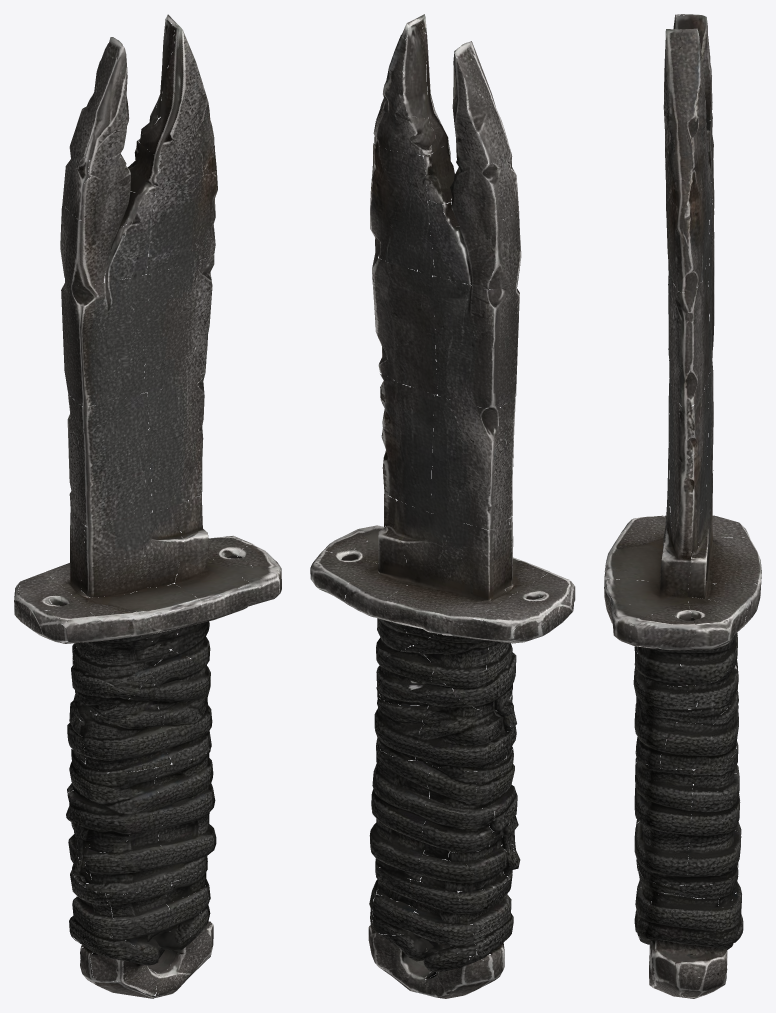
Rendered from w_ryu_shiv.glb.
3 views of the same model, side by side, from view 1: azimuth 30°, elevation 25°; view 2: azimuth 150°, elevation 25°; view 3: azimuth 270°, elevation 25° (orthographic).
Visible parts, largest first — view 1: tripo_node_50e54c1f-63ac-4bd1-8d1f-93ce150daeae; view 2: tripo_node_50e54c1f-63ac-4bd1-8d1f-93ce150daeae; view 3: tripo_node_50e54c1f-63ac-4bd1-8d1f-93ce150daeae.
Boxes of the visible parts, x1,y1,x2,y2 form: tripo_node_50e54c1f-63ac-4bd1-8d1f-93ce150daeae: [14, 14, 281, 998]; tripo_node_50e54c1f-63ac-4bd1-8d1f-93ce150daeae: [310, 14, 575, 998]; tripo_node_50e54c1f-63ac-4bd1-8d1f-93ce150daeae: [604, 14, 761, 998].
Size of the model in its own units: 0.1072 by 0.42 by 0.062.
Materials: 1 (1 with a texture image).
